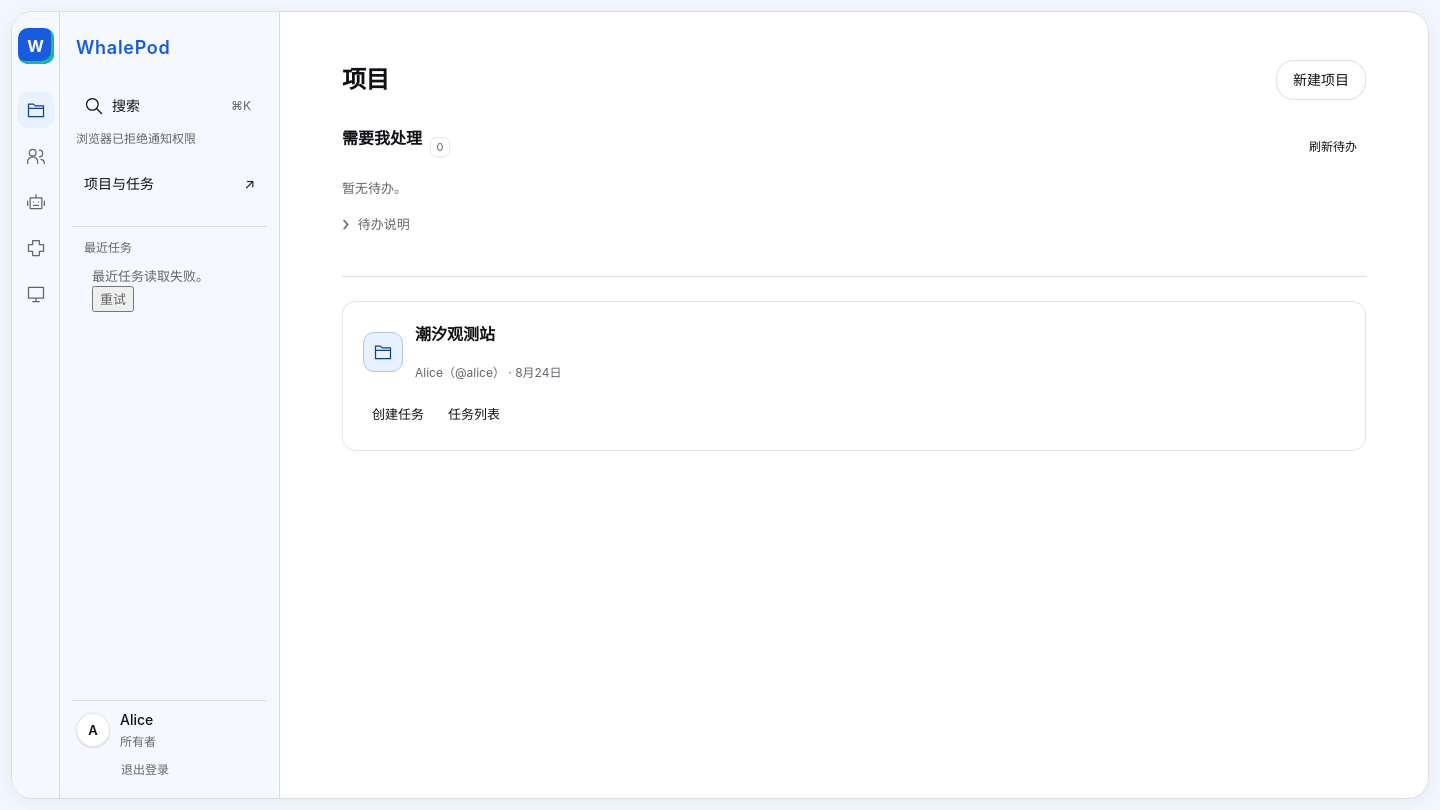
Scenario: #137 项目任务列表 › 展开后列出本项目任务：状态中文、责任人显示名、点击进入 Task Room
Click the button "任务列表" at (474, 414), box top-left (439, 398), bottom-right (509, 430)
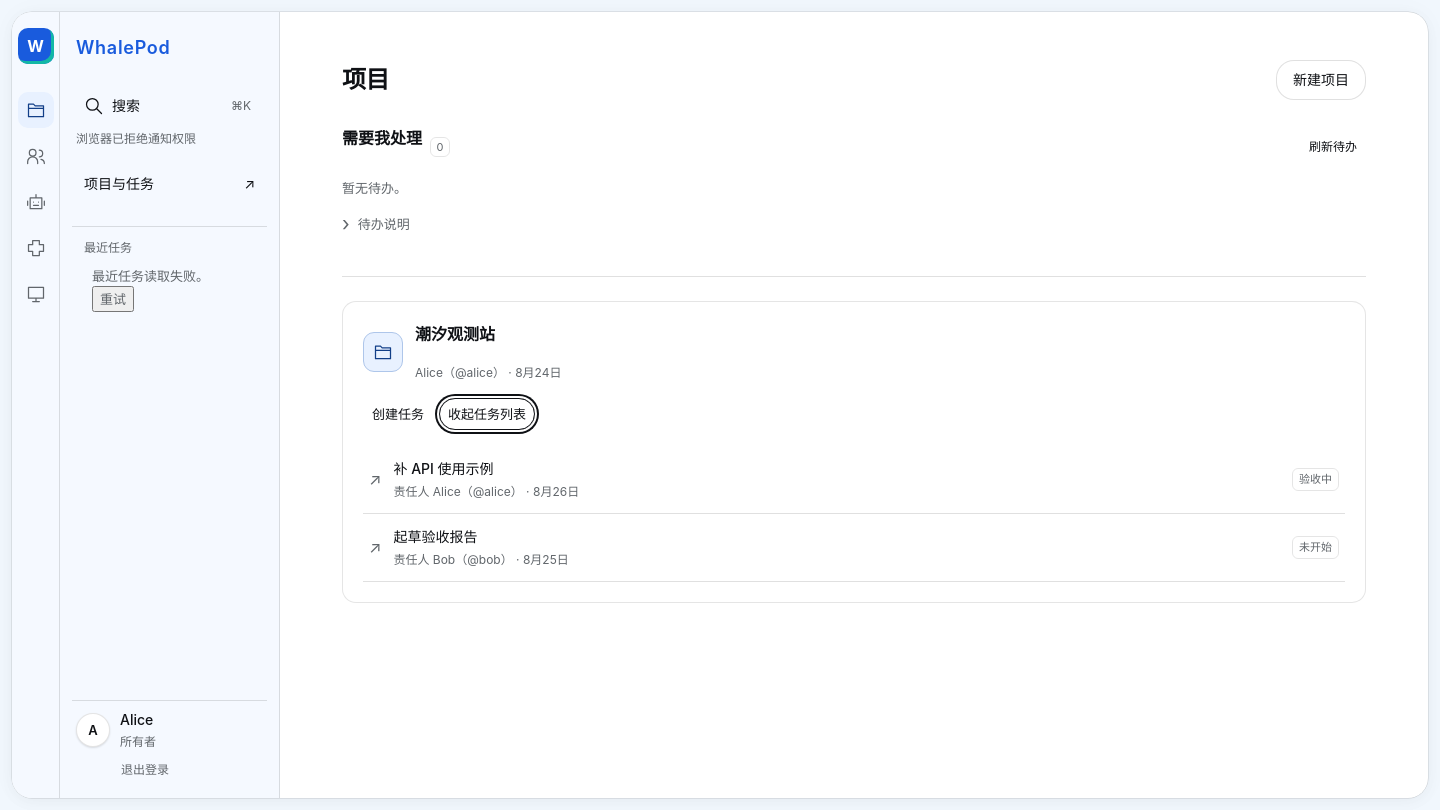
Expected: the list named "项目任务列表" is shown, top-left (363, 446), bottom-right (1345, 582)
Expected: the list item "↗ 补 API 使用示例 责任人 Alice（@alice） · 8月26日 验收中" is shown, top-left (363, 446), bottom-right (1345, 514)
Expected: the list item "↗ 起草验收报告 责任人 Bob（@bob） · 8月25日 未开始" is shown
点第二条（起草验收报告）→ 进入该 Task 的 Task Room
Click the button "↗ 起草验收报告 责任人 Bob（@bob） · 8月25日 未开始" at (435, 536), box top-left (363, 514), bottom-right (1345, 580)
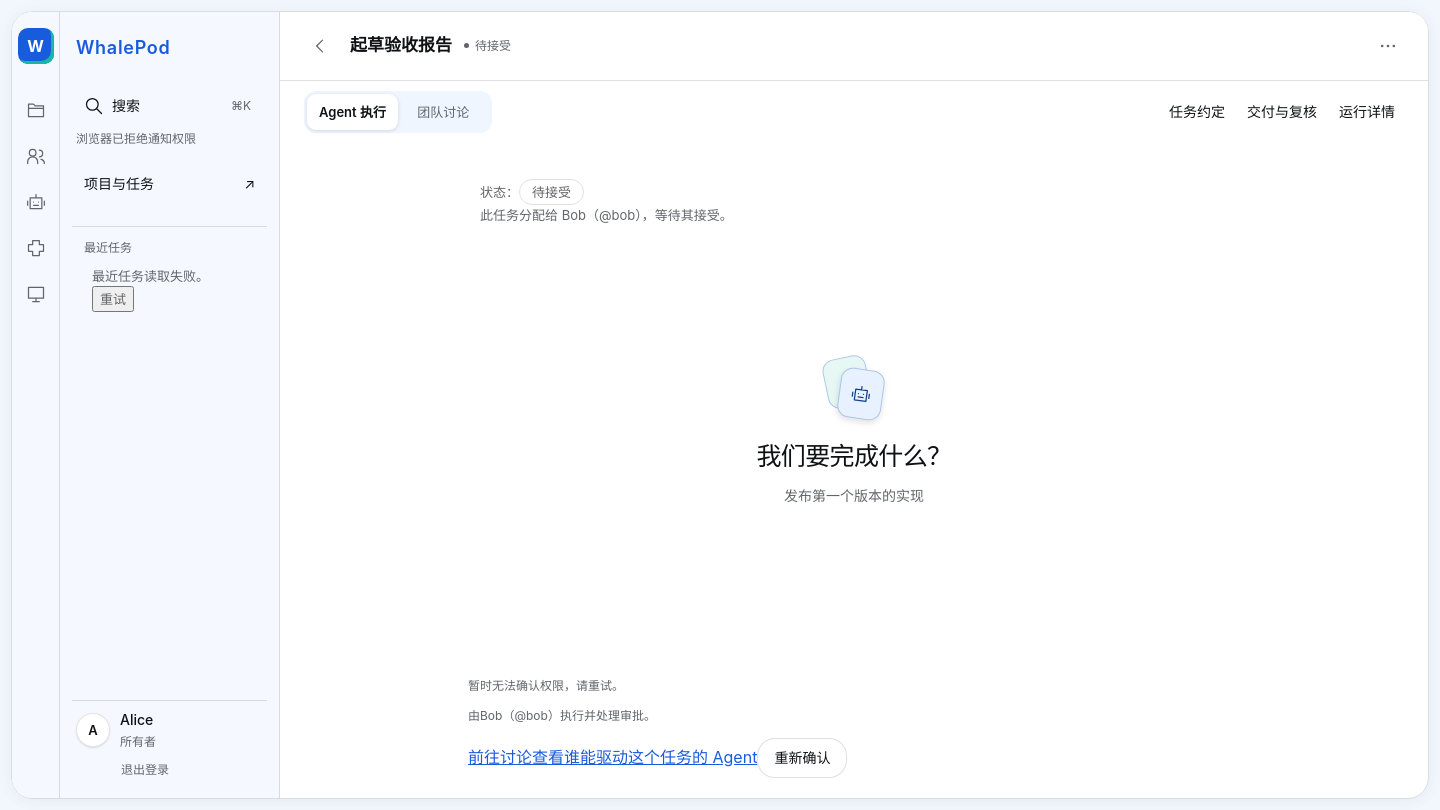
Expected: the heading "起草验收报告" is shown, top-left (350, 34), bottom-right (452, 58)
